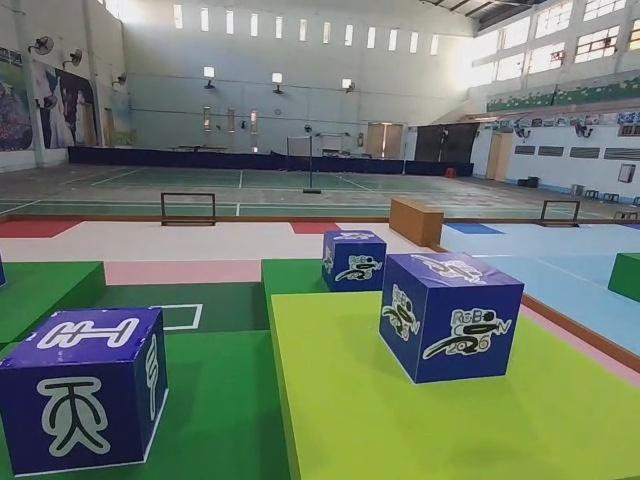R1 Blue: (380, 253, 525, 385), (322, 230, 386, 292)
R2 Fake Blue: (1, 309, 168, 478)
